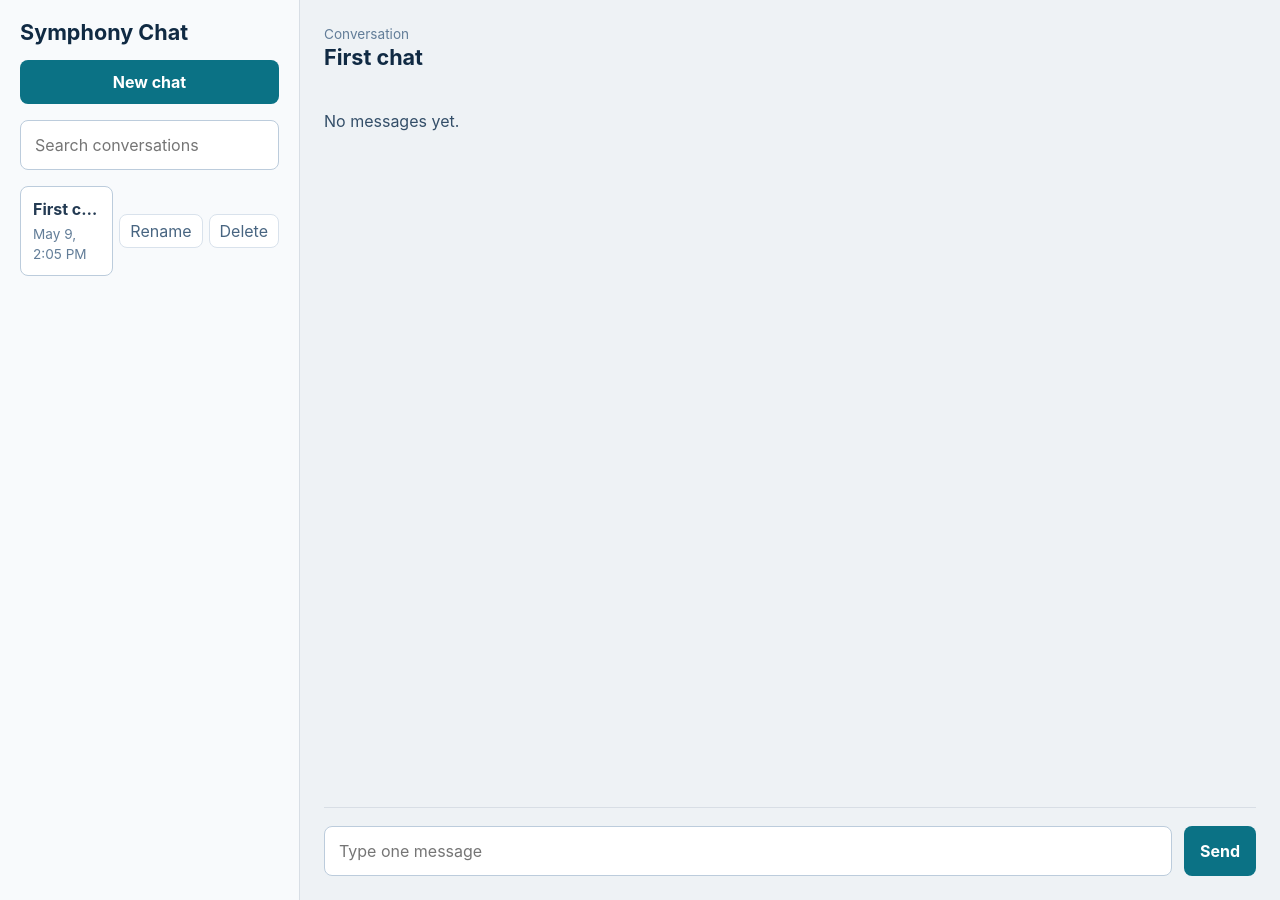
Test case: App › shows inline error when non-2xx response is received before streaming
Check: the text "No messages yet." is shown, box [324,111,459,131]
In the field labelled "message": point(748, 851) [324,826,1172,876], type "trigger error"
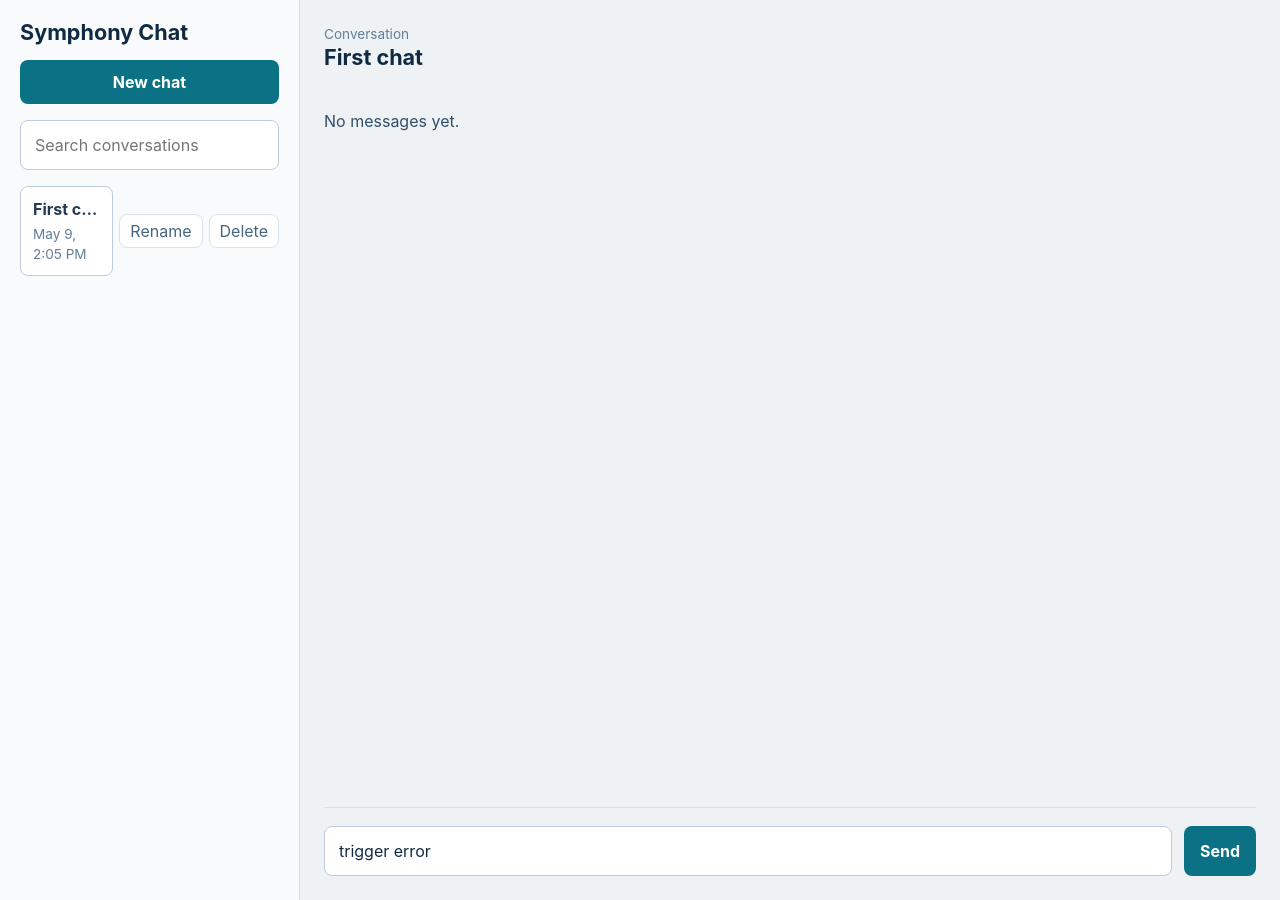
Click the button "Send": point(1220, 851) [1184,826,1256,876]
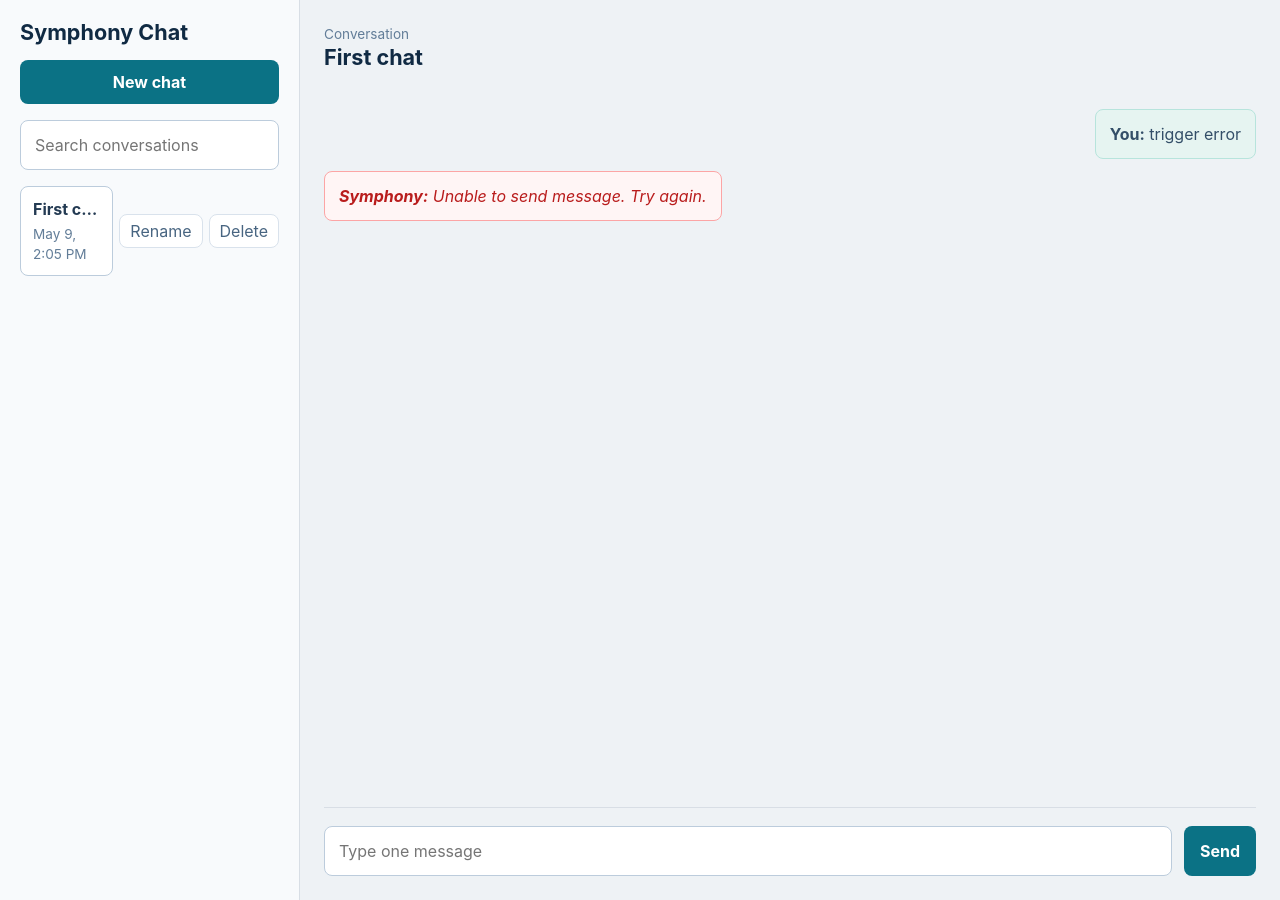
Check: the text "Unable to send message. Try again." is shown, box [433,186,706,206]
Check: the text "trigger error" is shown, box [1149,124,1241,144]
